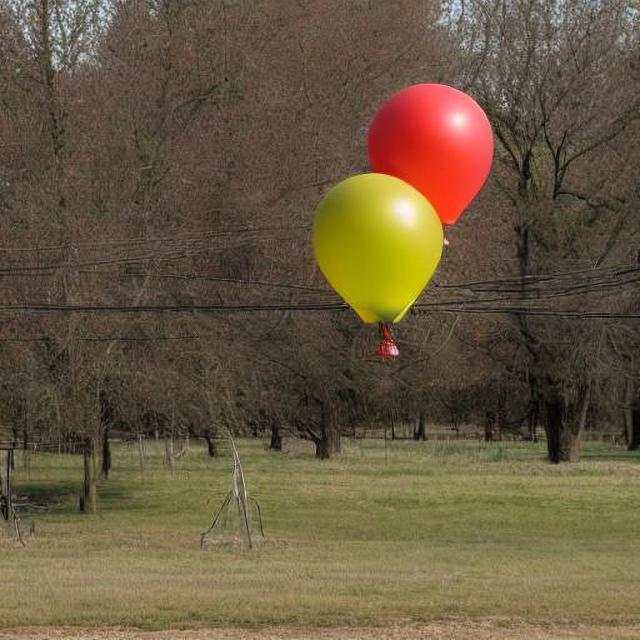balloon: (308, 80, 495, 330)
